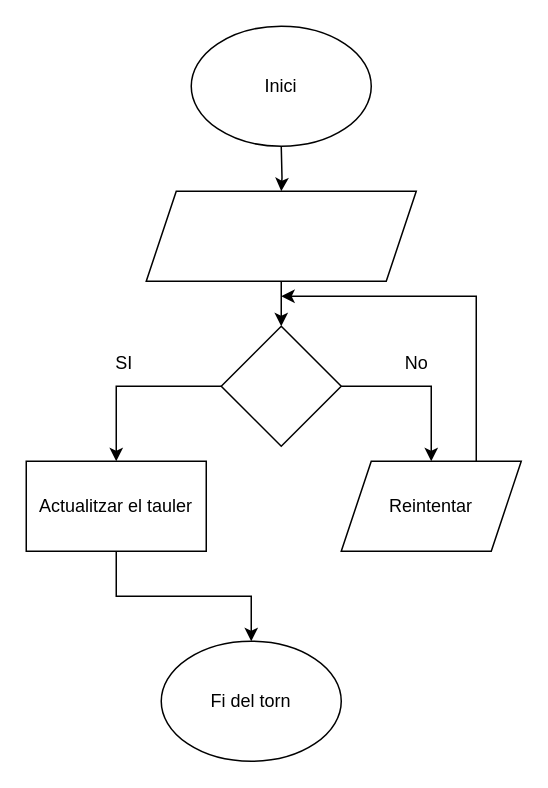
Image size: 548x788. Some labels were removed from this diagram. Here are the shapes that lost their labels. From the top down, the centre of each, then its label:
At (x=280, y=235): "El jugador ingresa moviment".
At (x=280, y=385): "Moviment vàlid?".
